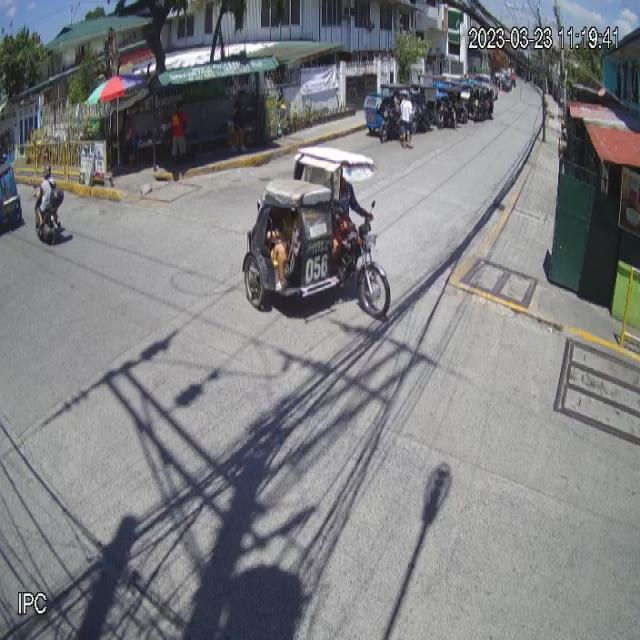Tricycle: (242, 146, 391, 321)
